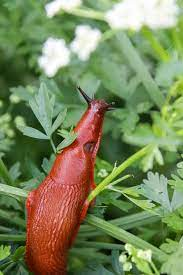slug: (27, 86, 117, 275)
